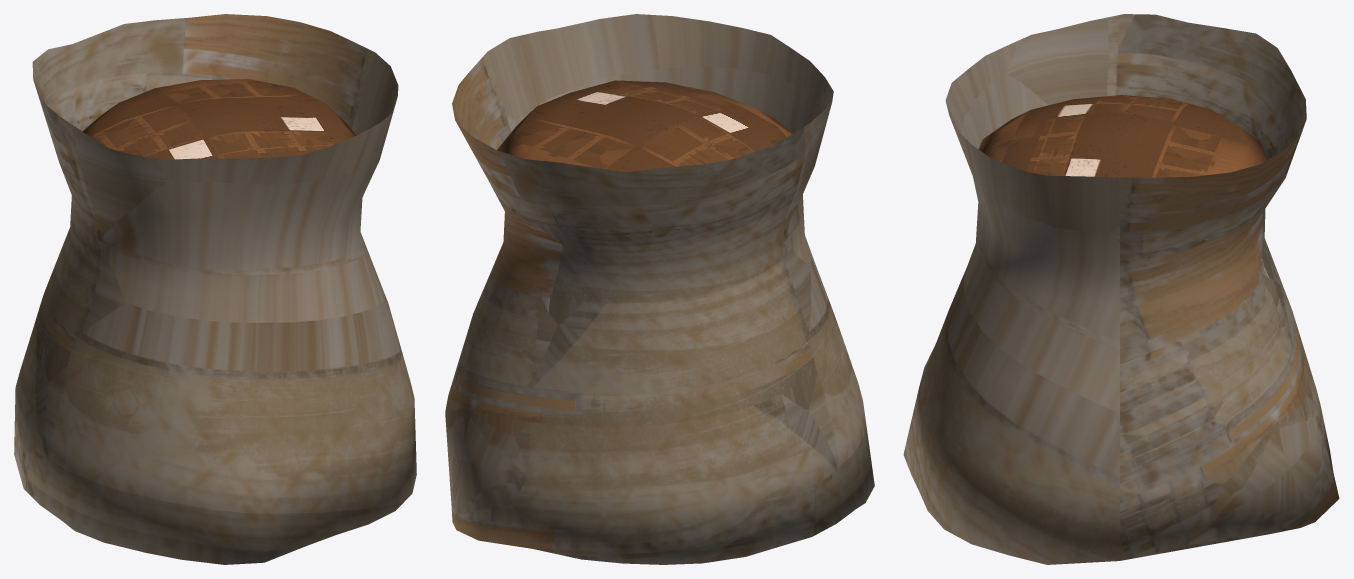
The model's file is rice.fbx.
3 renders of one model, left to right at view 1: azimuth 30°, elevation 25°; view 2: azimuth 150°, elevation 25°; view 3: azimuth 270°, elevation 25°, orthographic. The views are drawn at different scales.
Visible parts, largest first — view 1: bag of rice_low, rice; view 2: bag of rice_low, rice; view 3: bag of rice_low, rice.
Part boxes in pixels (x1=…): bag of rice_low: x1=14, y1=14, x2=416, y2=564; rice: x1=82, y1=79, x2=356, y2=159; bag of rice_low: x1=445, y1=14, x2=874, y2=564; rice: x1=497, y1=80, x2=793, y2=172; bag of rice_low: x1=903, y1=14, x2=1339, y2=564; rice: x1=978, y1=95, x2=1268, y2=177.
Bounding box in the file's own units: 196 × 185 × 196.
